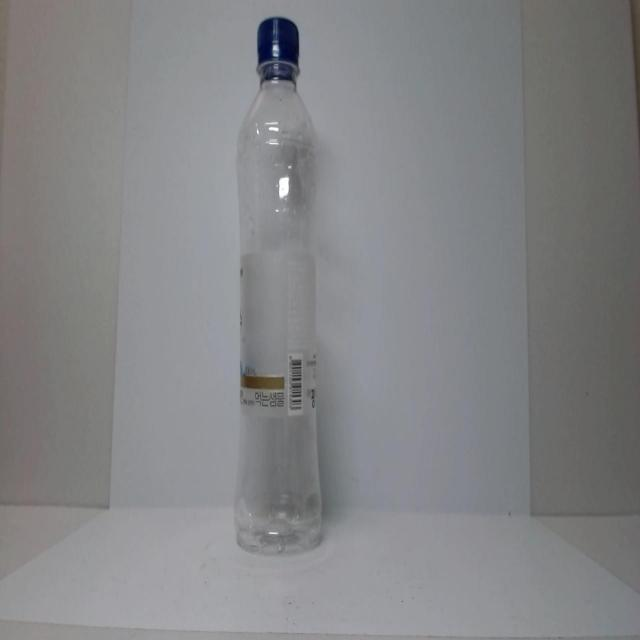bottle: (222, 13, 346, 578)
